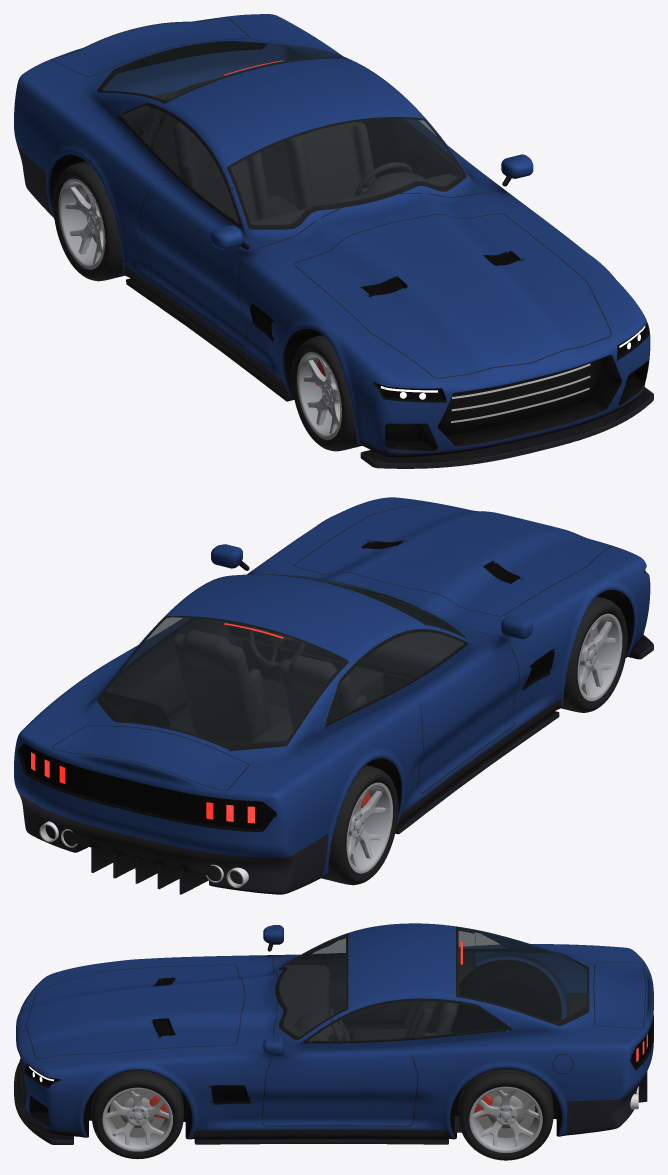
The model's file is valken.glb.
3 renders of one model, top to bottom at view 1: azimuth 30°, elevation 25°; view 2: azimuth 150°, elevation 25°; view 3: azimuth 270°, elevation 25°, orthographic. The views are drawn at different scales.
Visible parts, largest first — view 1: body, wheel_rr_mesh, wheel_fr_mesh; view 2: body, wheel_rr_mesh, wheel_fr_mesh; view 3: body, wheel_rl_mesh, wheel_fl_mesh.
Part boxes in pixels (x1,y1,x2,y2): body: [14, 14, 653, 468]; wheel_rr_mesh: [53, 161, 124, 281]; wheel_fr_mesh: [291, 335, 361, 451]; body: [14, 497, 653, 894]; wheel_rr_mesh: [321, 765, 398, 885]; wheel_fr_mesh: [561, 596, 627, 712]; body: [14, 923, 653, 1144]; wheel_rl_mesh: [458, 1069, 553, 1160]; wheel_fl_mesh: [91, 1070, 183, 1159].
Size of the model in its own units: 2.15 by 1.31 by 4.78.
